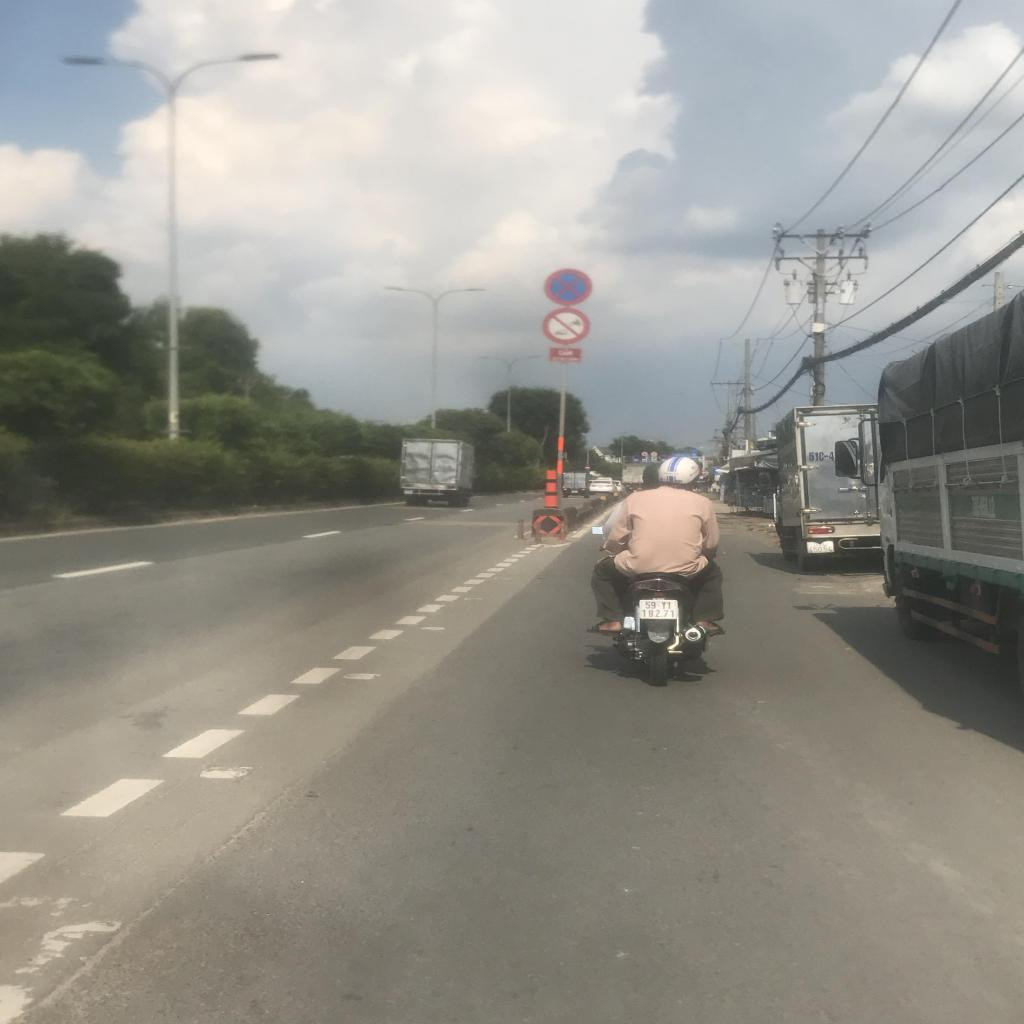cam_dung_xe_va_do_xe: (543, 268, 592, 307)
cam_xe_2_banh_va_xe_3_banh_co_dong_co: (542, 310, 590, 344)
